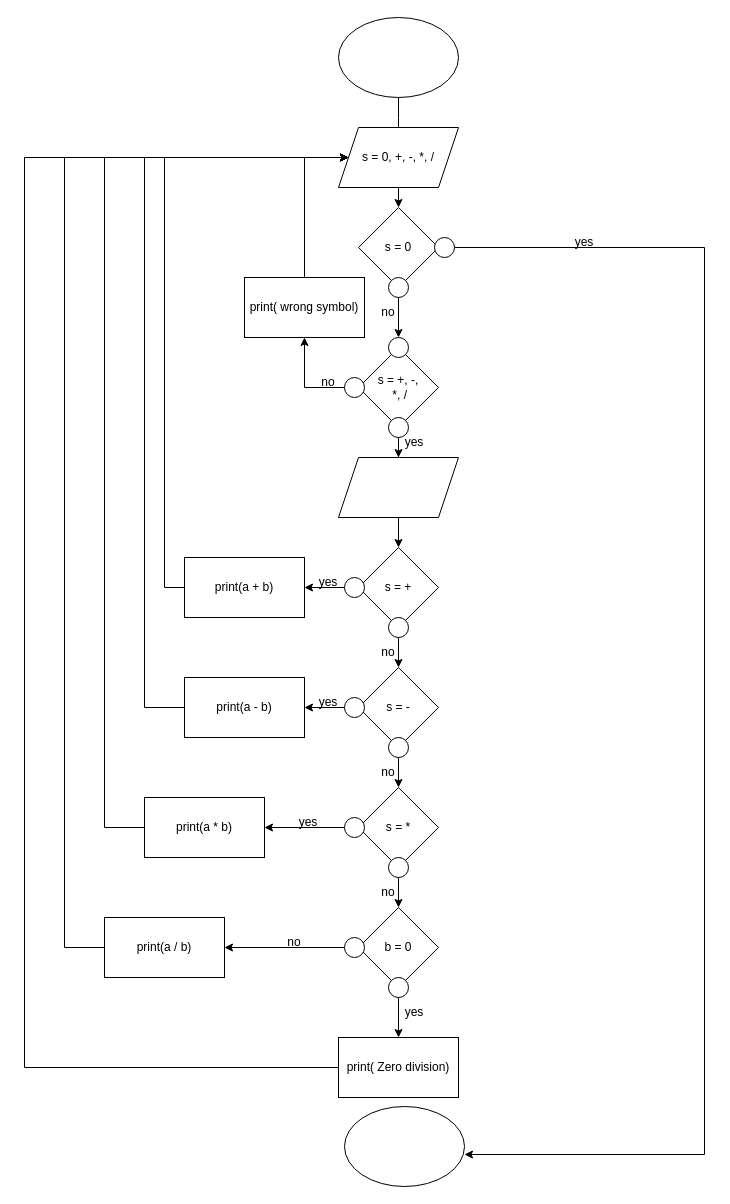
The diagram is 730 pixels wide and 1204 high, and some of its shapes have lost their labels. Each missing label, with the centre of its shape:
"a, b" goes at [398,487].
"Конец" goes at [404,1146].
"Начало" goes at [398,57].
